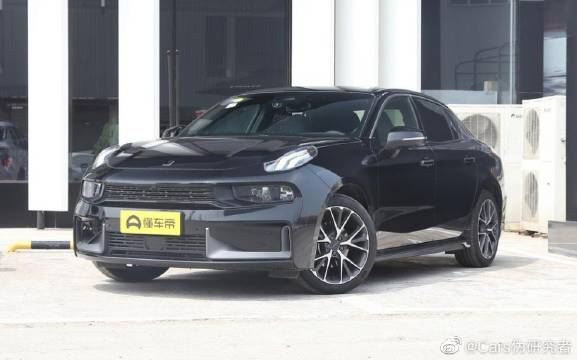other: (72, 76, 511, 294)
